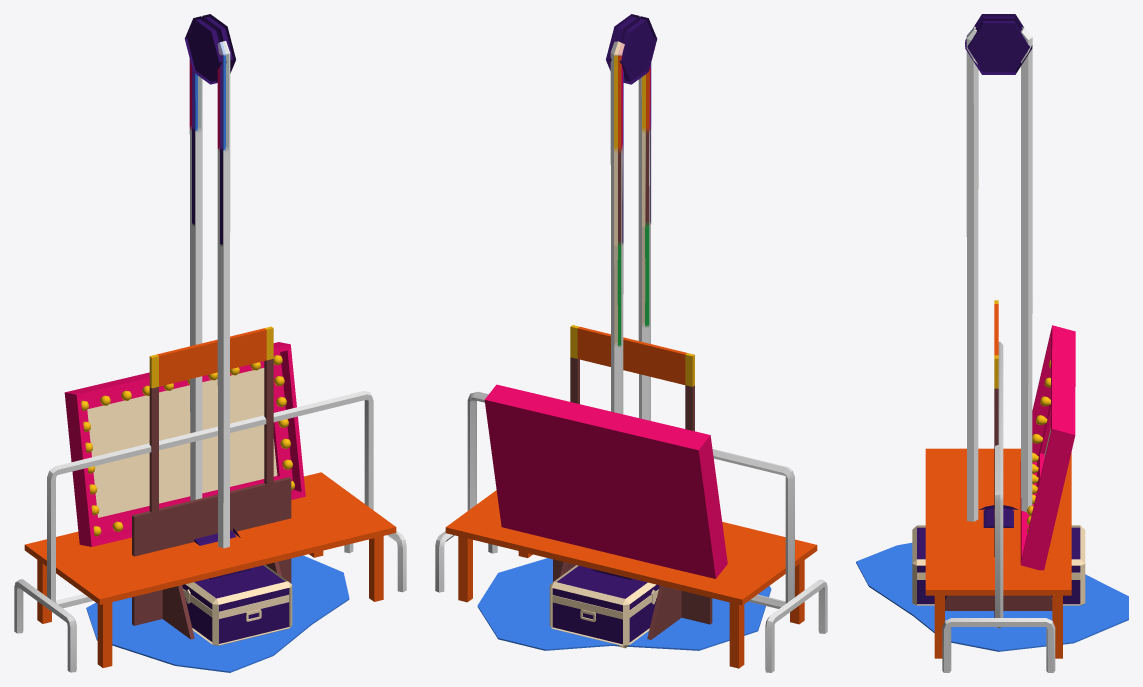
Rendered from Objetos interactuables.fbx.
3 renders of one model, left to right at view 1: azimuth 30°, elevation 25°; view 2: azimuth 150°, elevation 25°; view 3: azimuth 270°, elevation 25°, orthographic. The views are drawn at different scales.
Visible parts, largest first — view 1: Luces, Mesa Maquillje, Mercadillo, Reborde Polea, Agua, Caja backstage, Burro, Patas Burro, Polea interactuable, Luces.001, Pata mercadillo; view 2: Luces, Mesa Maquillje, Reborde Polea, Agua, Caja backstage, Mercadillo, Burro, Patas Burro, Polea interactuable, Pata mercadillo; view 3: Mesa Maquillje, Reborde Polea, Agua, Luces, Polea interactuable, Caja backstage, Burro, Patas Burro, Pata mercadillo, Mercadillo, Luces.001.
Part boxes in pixels (box(x1,y1,x2,y2)): Luces: box(64, 342, 305, 546); Mesa Maquillje: box(24, 472, 396, 667); Mercadillo: box(132, 326, 291, 625); Reborde Polea: box(184, 14, 250, 570); Agua: box(86, 555, 349, 672); Caja backstage: box(182, 564, 292, 645); Burro: box(47, 391, 373, 608); Patas Burro: box(14, 531, 406, 672); Polea interactuable: box(187, 16, 247, 579); Luces.001: box(81, 355, 294, 536); Pata mercadillo: box(162, 561, 281, 639); Luces: box(484, 384, 727, 578); Mesa Maquillje: box(445, 490, 817, 668); Reborde Polea: box(591, 14, 657, 571); Agua: box(477, 558, 771, 650); Caja backstage: box(549, 565, 659, 648); Mercadillo: box(553, 325, 712, 624); Burro: box(467, 391, 794, 608); Patas Burro: box(435, 531, 827, 672); Polea interactuable: box(594, 16, 654, 579); Pata mercadillo: box(560, 562, 681, 639); Mesa Maquillje: box(925, 448, 1071, 658); Reborde Polea: box(965, 14, 1032, 521); Agua: box(856, 542, 1128, 651); Luces: box(1020, 325, 1075, 570); Polea interactuable: box(967, 16, 1029, 527); Caja backstage: box(912, 525, 1085, 605); Burro: box(995, 341, 1003, 628); Patas Burro: box(942, 618, 1055, 672); Pata mercadillo: box(945, 595, 1052, 610); Mercadillo: box(994, 300, 998, 617); Luces.001: box(1027, 359, 1050, 533).
Bounding box in the file's own units: 252 × 430 × 182.
